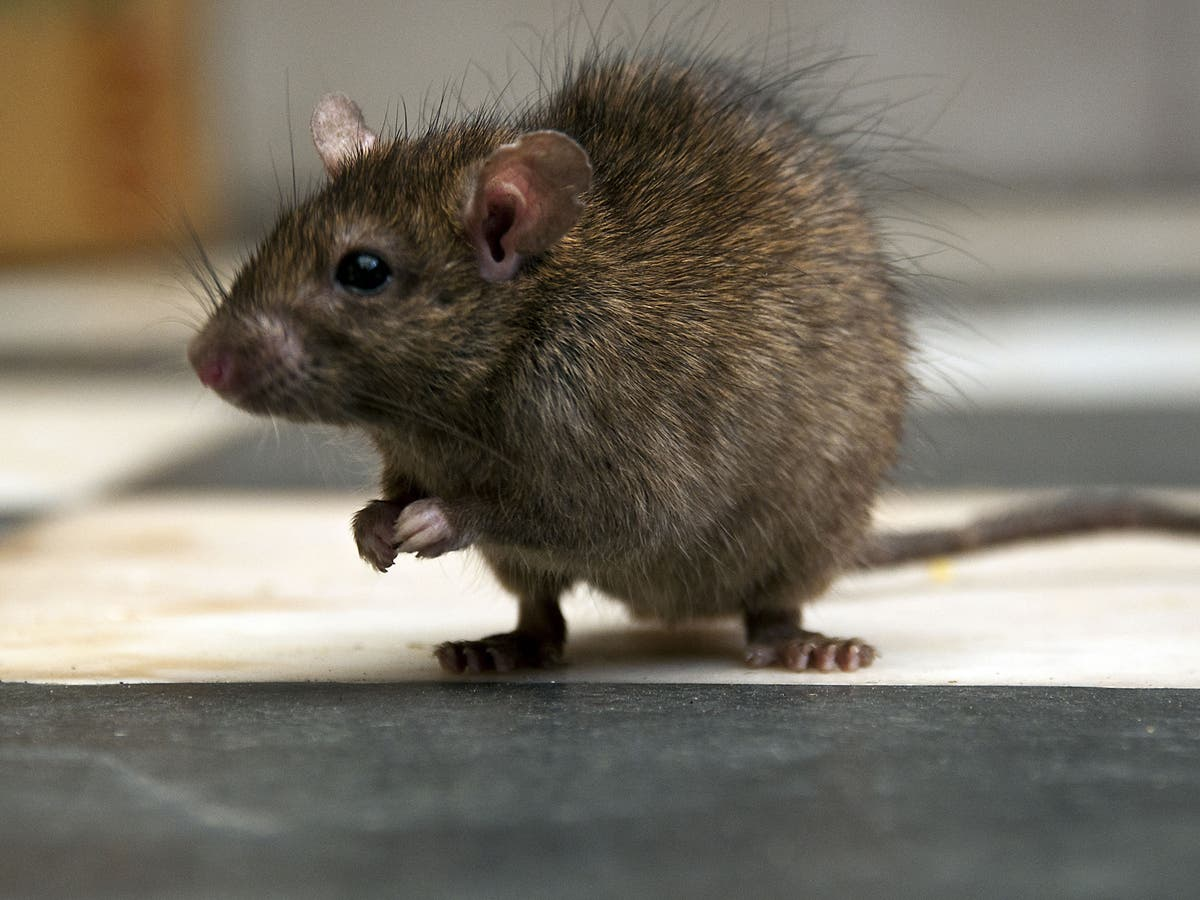Rat: (151, 28, 955, 717)
